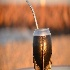guampa: (16, 1, 59, 69)
